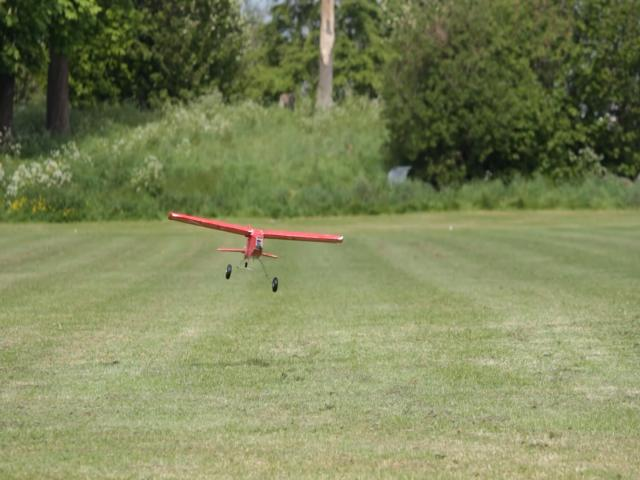plane: (167, 211, 346, 293)
